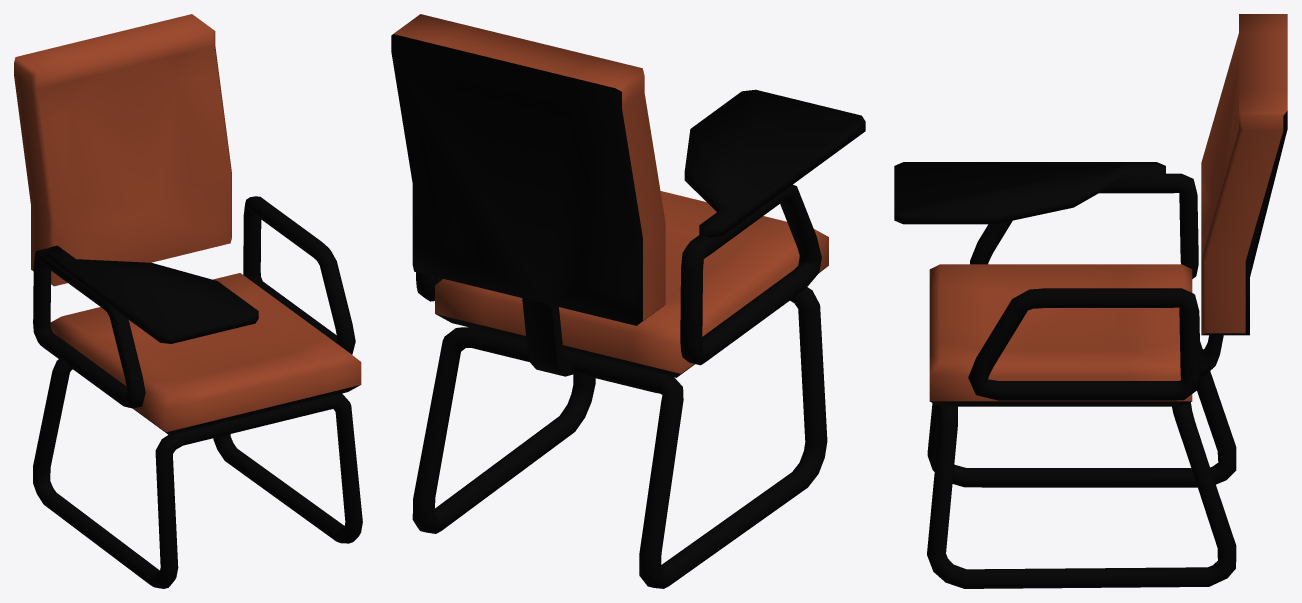
The model's file is cadeira de aula foto ( ctrl  j).fbx.
3 views of the same model, side by side, from view 1: azimuth 30°, elevation 25°; view 2: azimuth 150°, elevation 25°; view 3: azimuth 270°, elevation 25° (orthographic). The views are drawn at different scales.
Parts seen in each view (by area): view 1: partes pretas; view 2: partes pretas; view 3: partes pretas.
Boxes of the visible parts, x1,y1,x2,y2 form: partes pretas: [14, 14, 362, 588]; partes pretas: [391, 14, 865, 588]; partes pretas: [894, 14, 1287, 588].
Size of the model in its own units: 0.3226 by 0.5748 by 0.4318.
